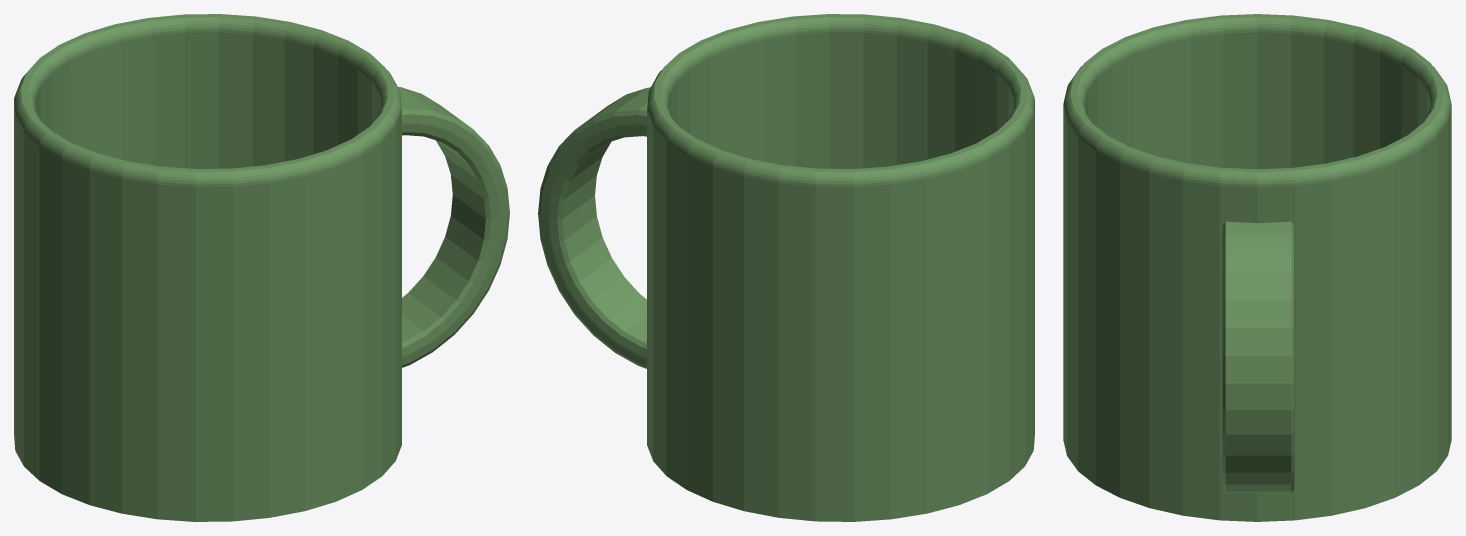
The model's file is mug c.fbx.
3 renders of one model, left to right at view 1: azimuth 30°, elevation 25°; view 2: azimuth 150°, elevation 25°; view 3: azimuth 270°, elevation 25°, orthographic.
Parts seen in each view (by area): view 1: Cylinder, Cylinder.001; view 2: Cylinder, Cylinder.001; view 3: Cylinder, Cylinder.001.
Boxes of the visible parts, x1=… form: Cylinder: x1=14, y1=14, x2=401, y2=521; Cylinder.001: x1=398, y1=86, x2=509, y2=367; Cylinder: x1=647, y1=14, x2=1034, y2=521; Cylinder.001: x1=538, y1=87, x2=650, y2=368; Cylinder: x1=1063, y1=14, x2=1451, y2=521; Cylinder.001: x1=1222, y1=221, x2=1294, y2=493.
Bounding box in the file's own units: 9.45 × 6.9 × 7.
